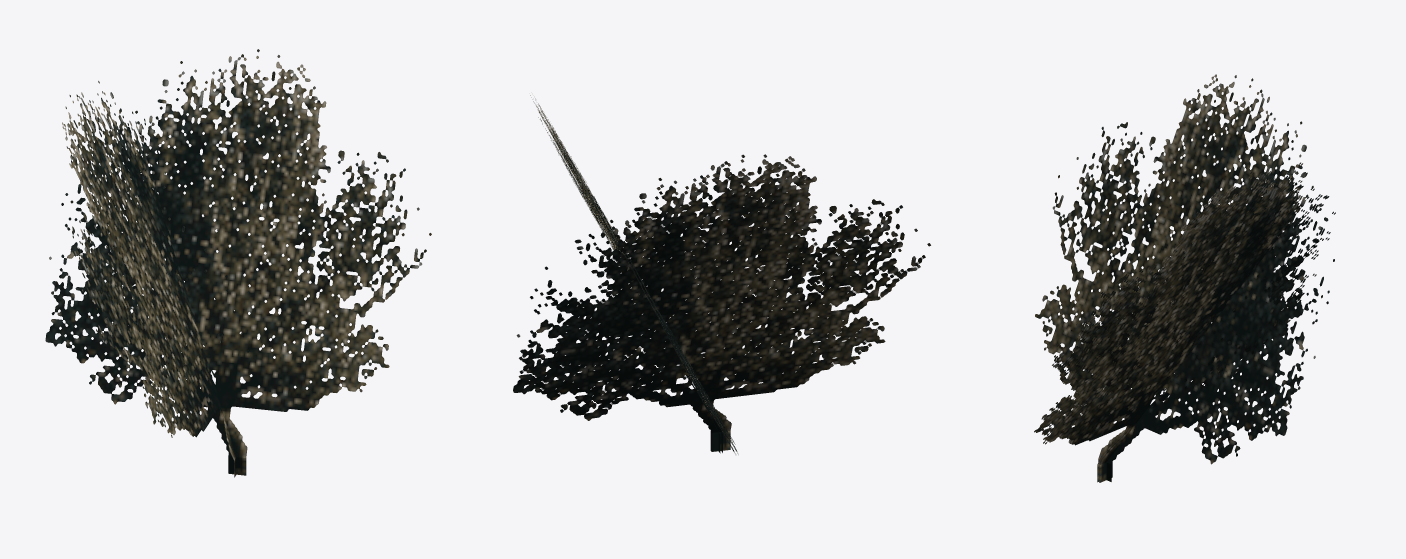
Rendered from tree101.fbx.
3 views of the same model, side by side, from view 1: azimuth 30°, elevation 25°; view 2: azimuth 150°, elevation 25°; view 3: azimuth 270°, elevation 25° (orthographic). The views are drawn at different scales.
Visible parts, largest first — view 1: tree101; view 2: tree101; view 3: tree101.
Part boxes in pixels (bbox=[...]): tree101: bbox=[45, 49, 431, 477]; tree101: bbox=[513, 95, 930, 454]; tree101: bbox=[1034, 74, 1335, 482].
Size of the model in its own units: 507 by 400 by 407.
Materials: 1 (1 with a texture image).
